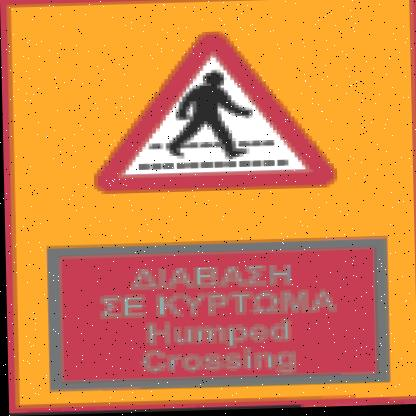Pedestrian Crossing: (74, 20, 342, 214)
